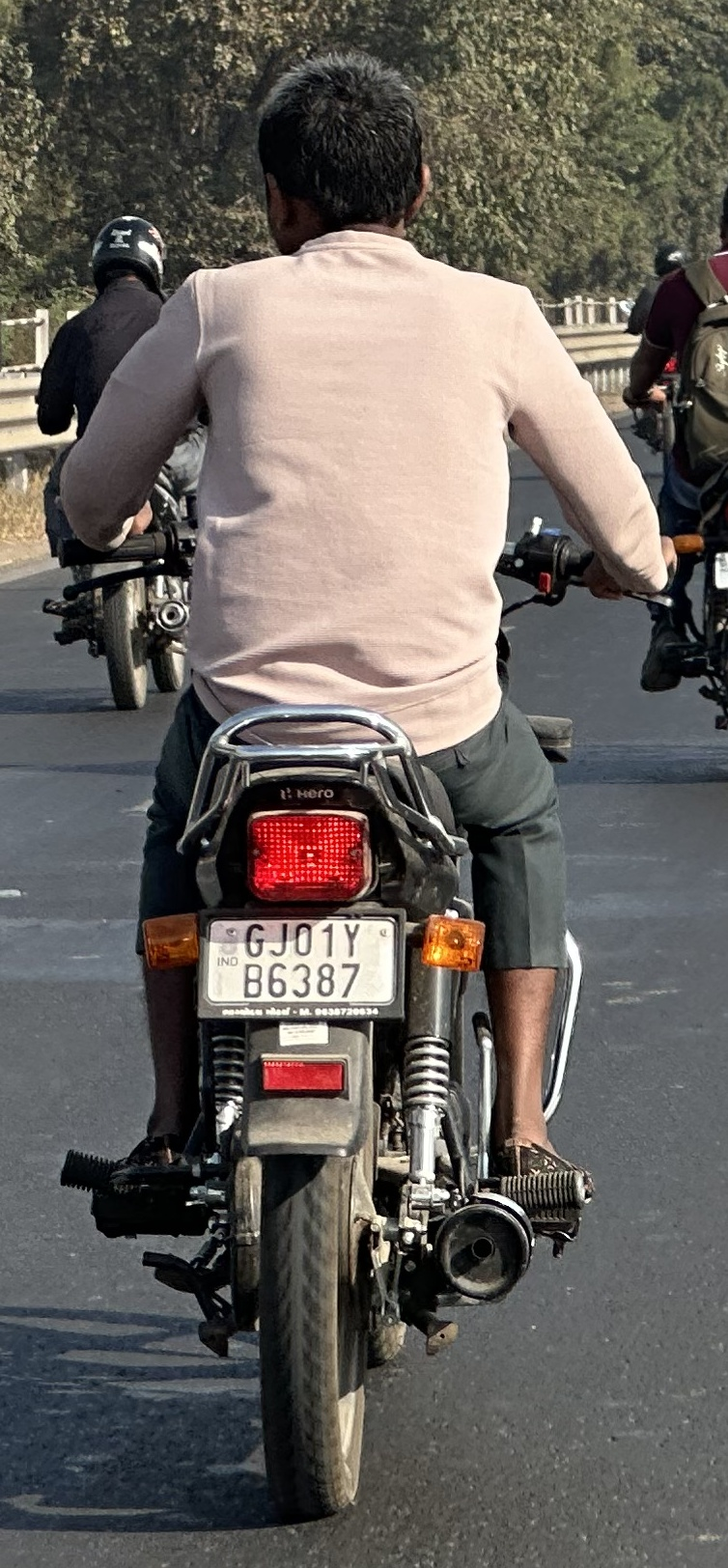BikeWithRider: (38, 54, 687, 1524), (38, 202, 235, 714)
Helmet: (80, 209, 172, 295)
NoHelmet: (242, 44, 433, 254)
